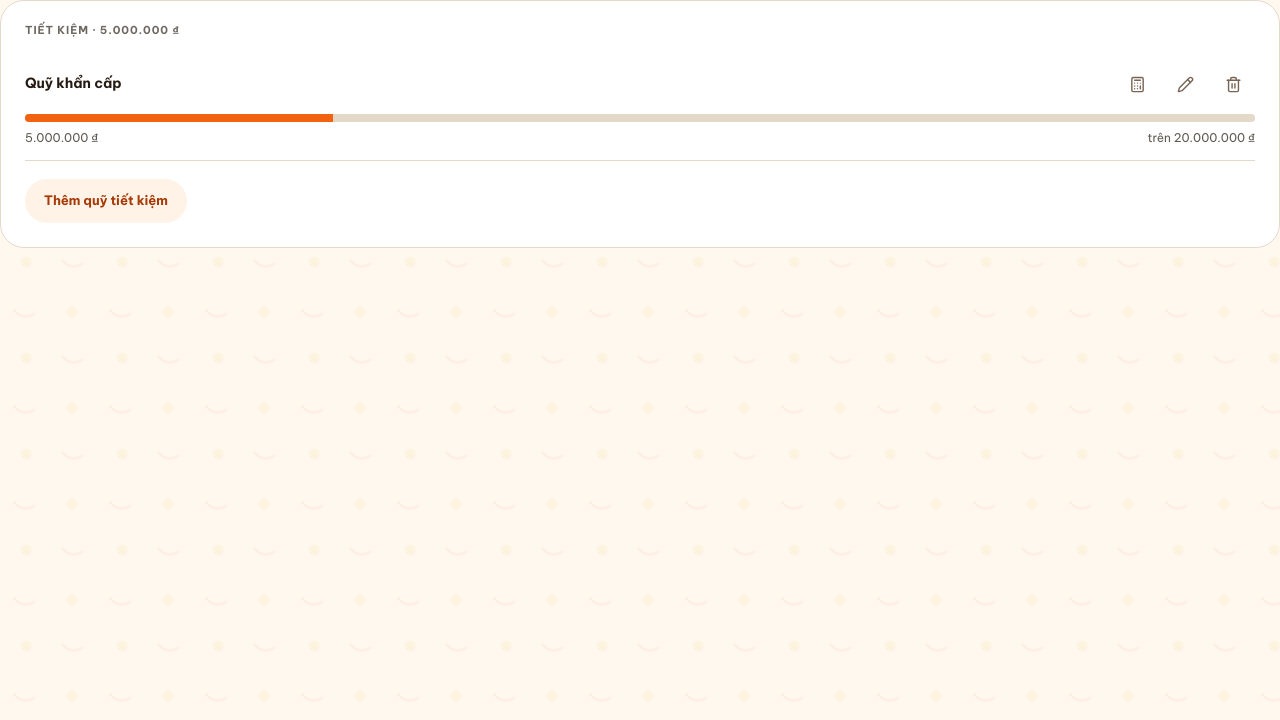
Test case: SavingsTab › closes the edit form without saving when Huỷ is clicked
Click the button named "Sửa Quỹ khẩn cấp" at [1185, 84], box [1163,62,1207,106]
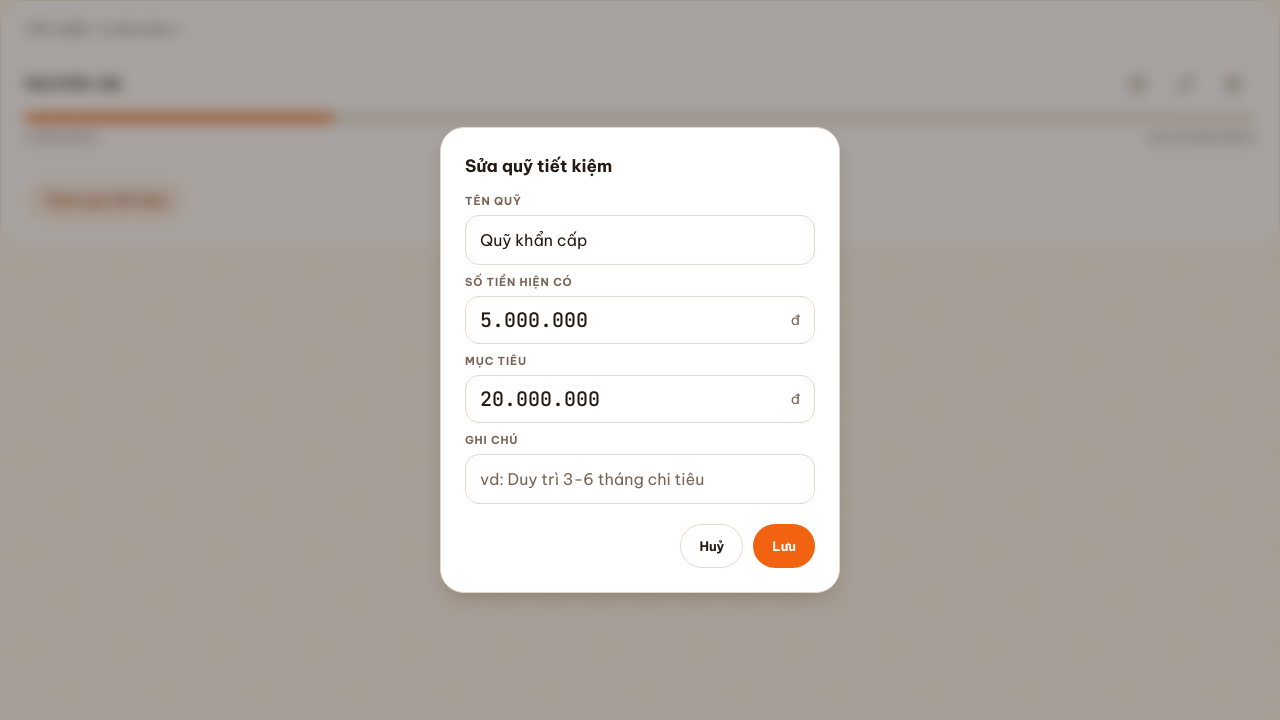
Now the field labelled "Tên quỹ" is shown, box [480,216,800,264]
Click the button "Huỷ" at [712, 546], box [680,524,743,568]
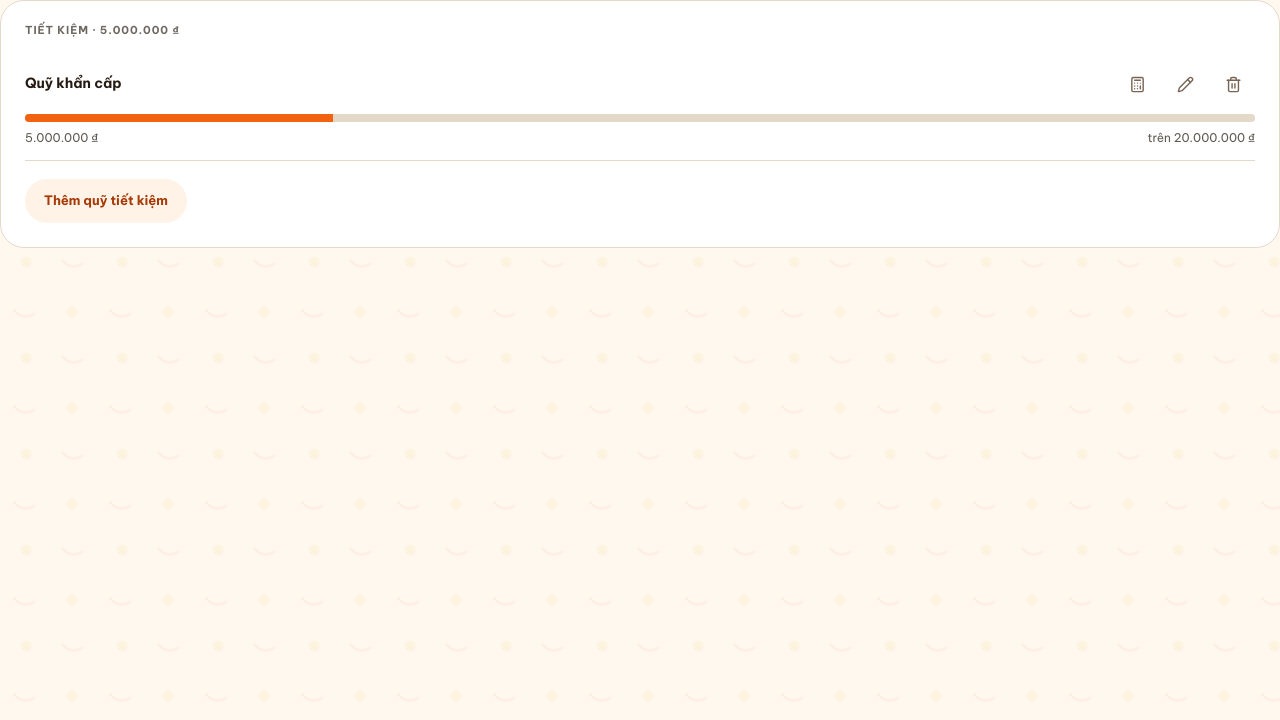
Now the text labelled "Tên quỹ" is gone
